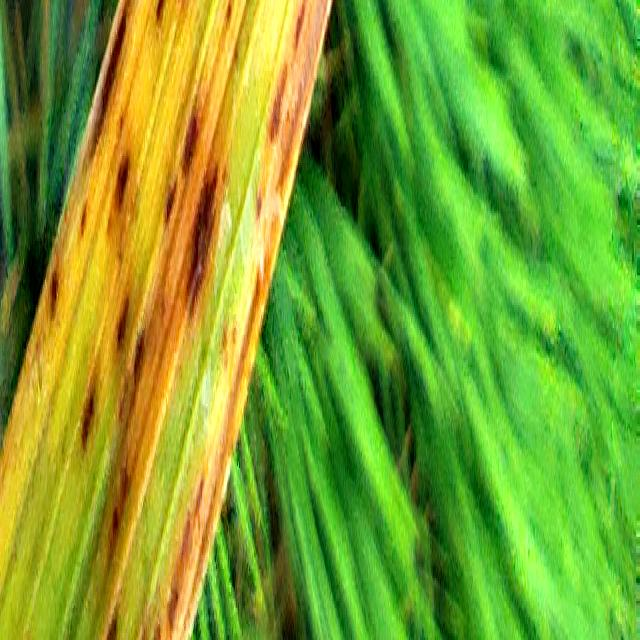NBS: (88, 6, 126, 162), (181, 95, 199, 168)
